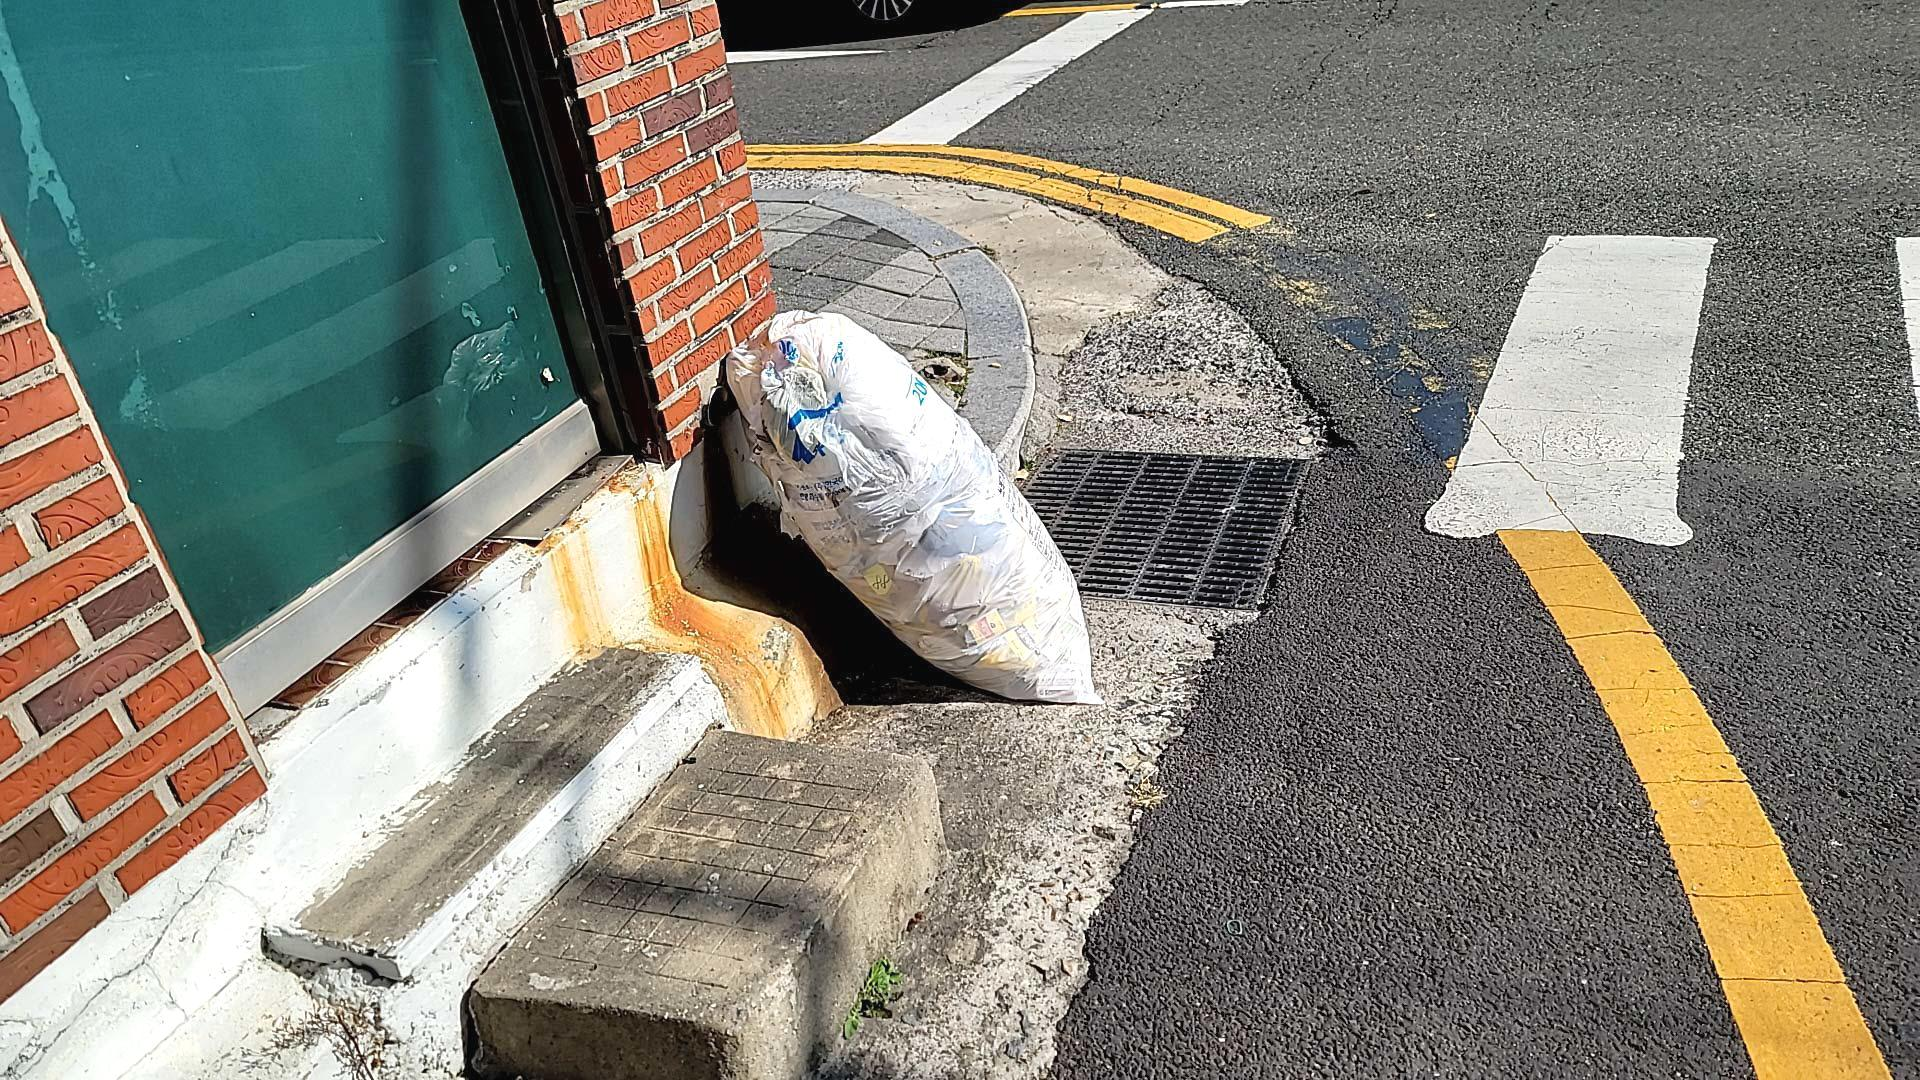white_bag: (711, 301, 1122, 716)
